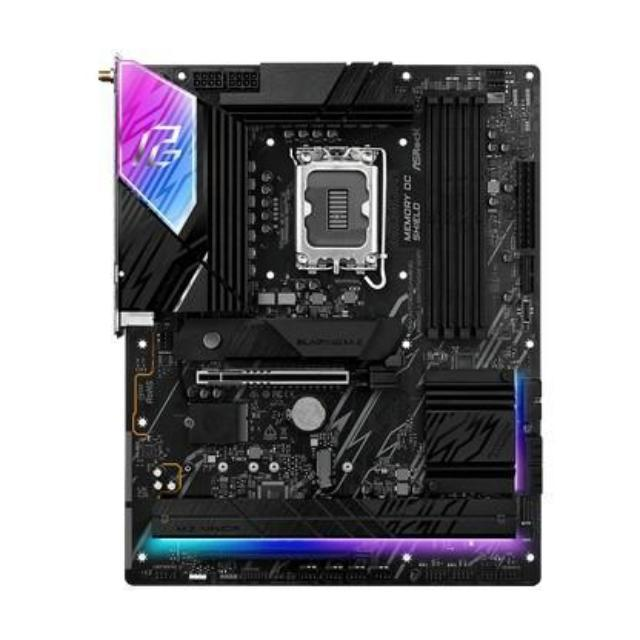Mainboard: (93, 46, 553, 594)
